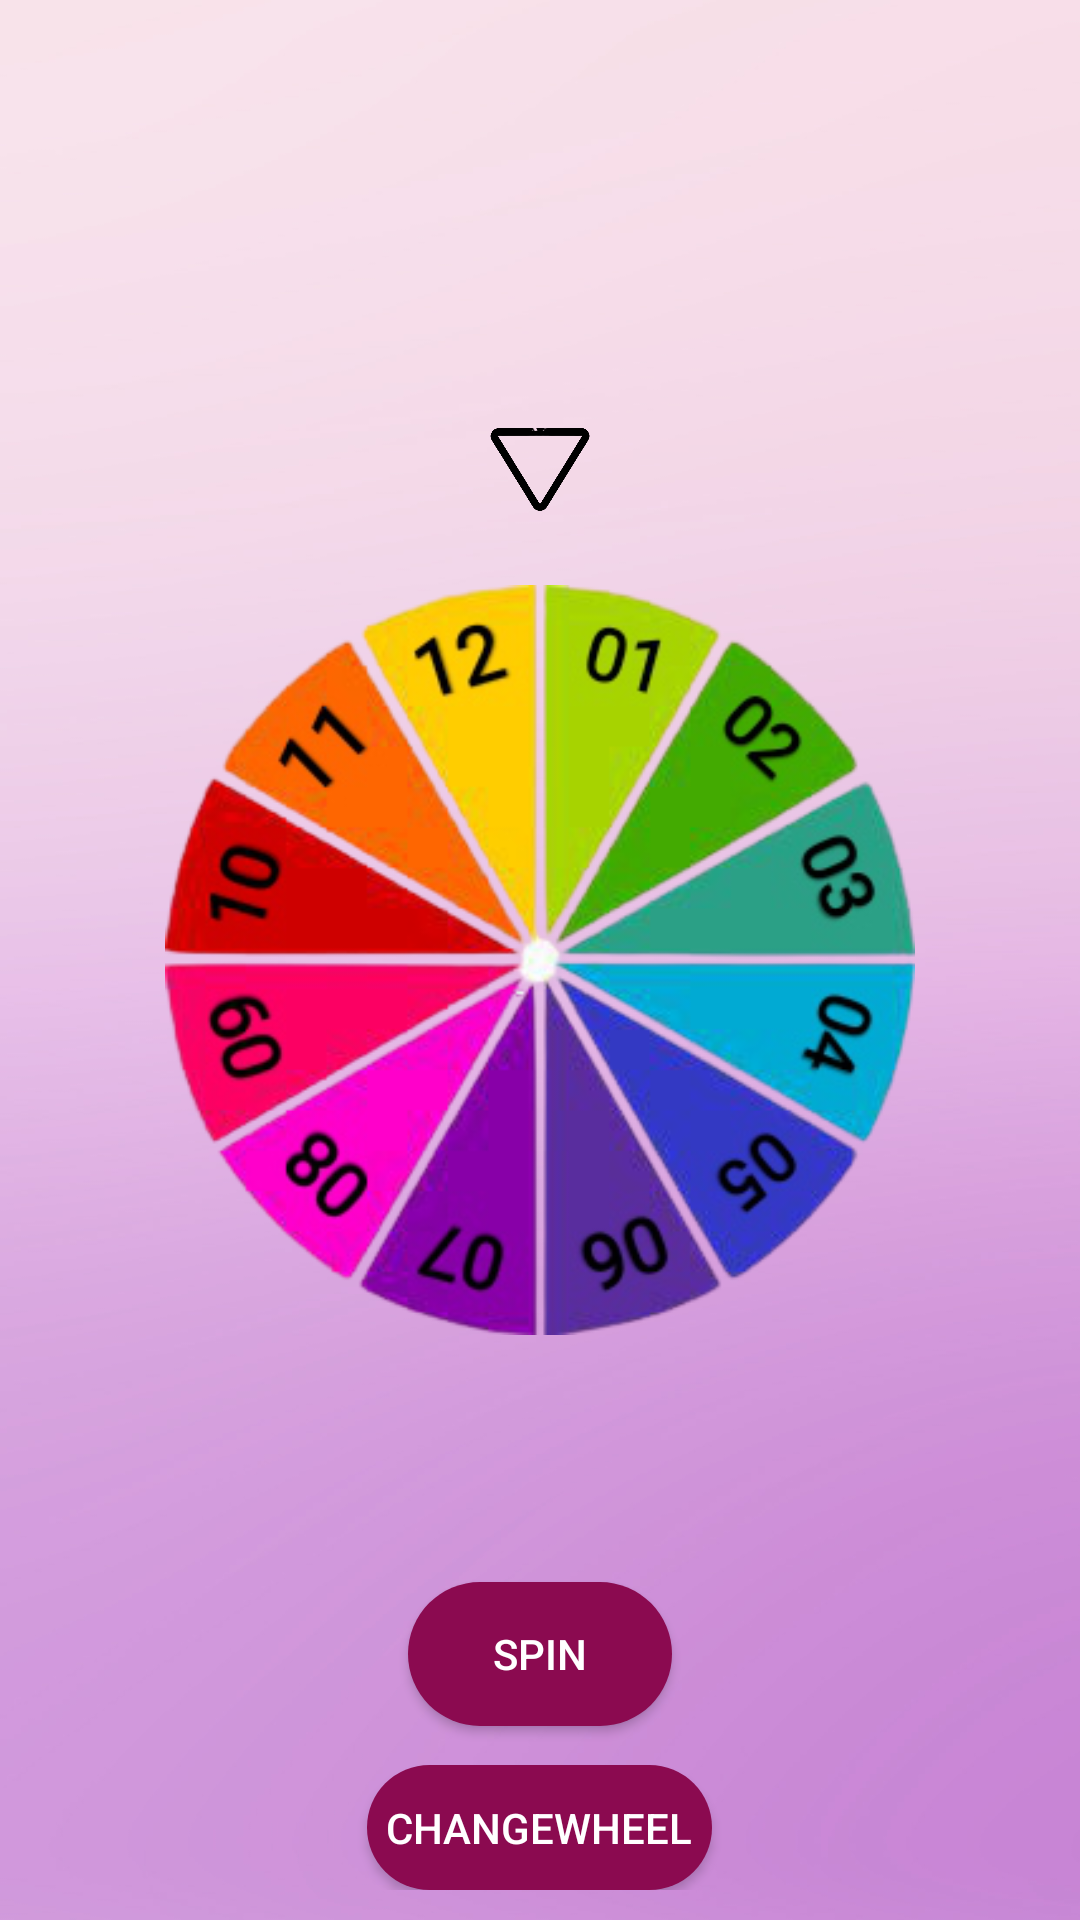

Icons on this 1080 × 1920 Android screen, each with the point to tap as [x,y]:
pointerfinal: [540,469]
